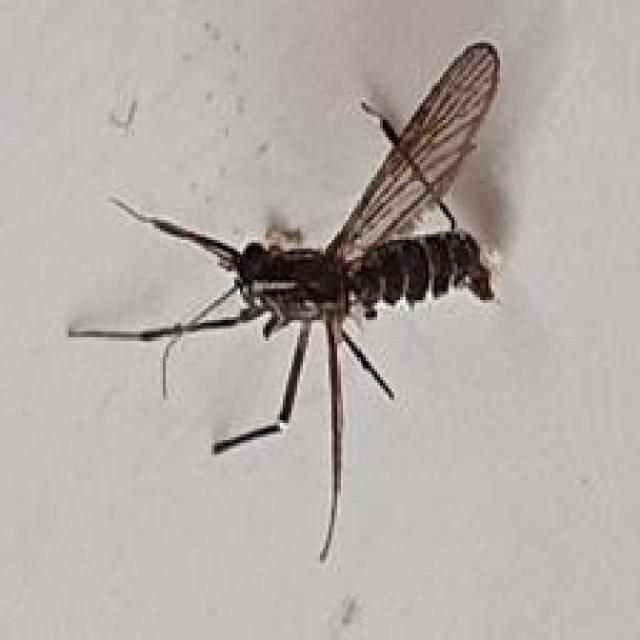Aedes albopictus: (67, 40, 504, 563)
